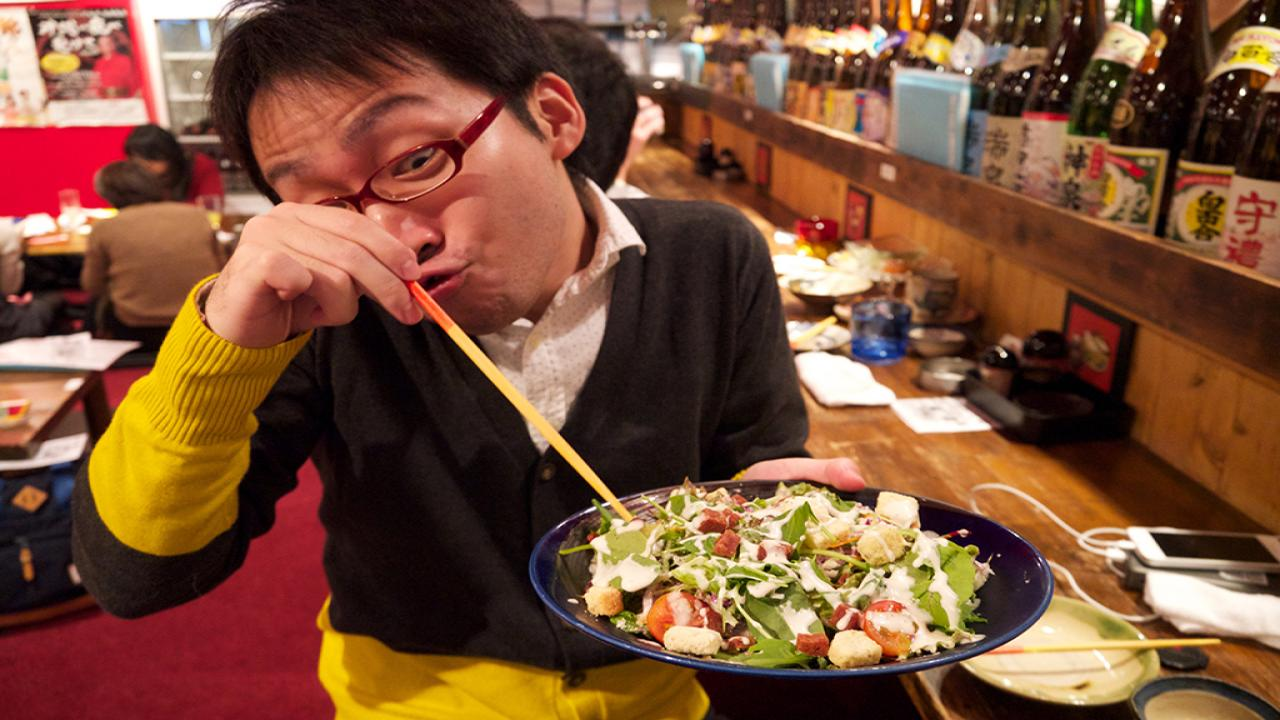chopstick: (412, 283, 632, 520), (989, 639, 1220, 654)
